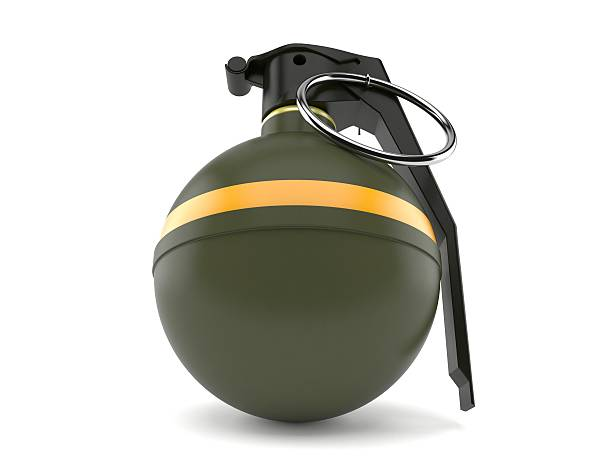e1: (152, 43, 474, 424)
